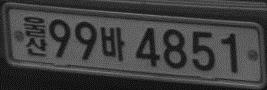1: (218, 31, 240, 74)
4: (135, 25, 162, 67)
5: (190, 29, 215, 72)
8: (162, 27, 187, 69)
9: (74, 20, 98, 62), (48, 18, 72, 59)
바: (98, 24, 125, 63)
울산_V: (22, 15, 48, 56)
